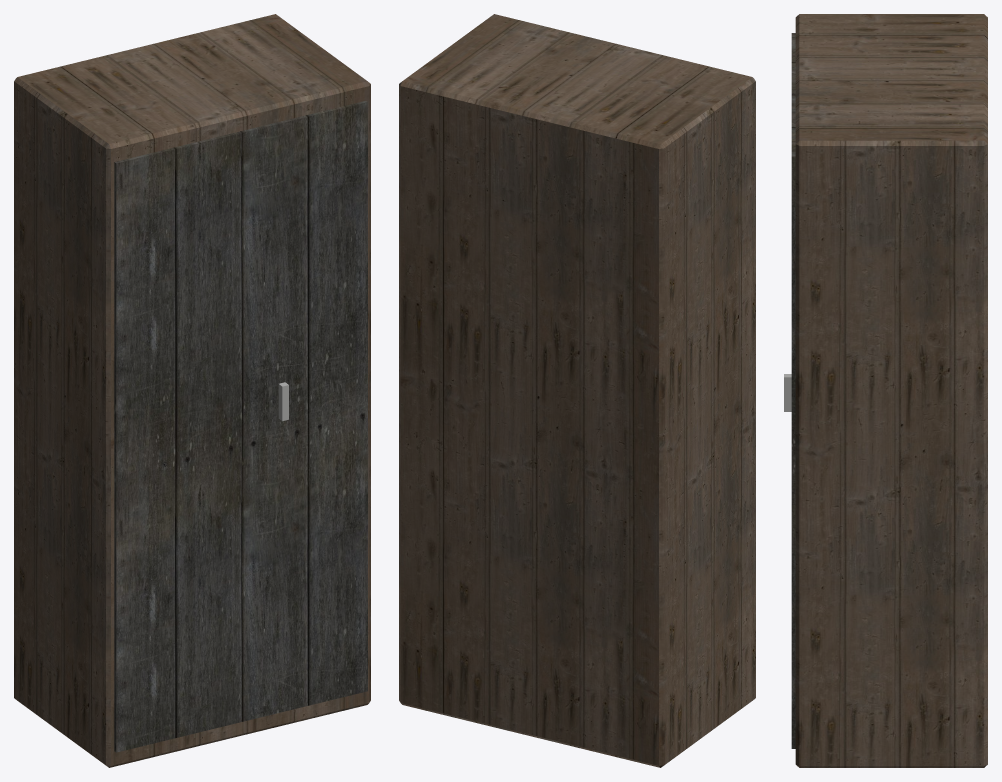
File: wardrobe.glb
3 renders of one model, left to right at view 1: azimuth 30°, elevation 25°; view 2: azimuth 150°, elevation 25°; view 3: azimuth 270°, elevation 25°, orthographic.
Parts seen in each view (by area): view 1: wardrobe; view 2: wardrobe; view 3: wardrobe.
Part boxes in pixels (box(x1,y1,x2,y2)): wardrobe: box(14, 14, 370, 767); wardrobe: box(399, 14, 755, 767); wardrobe: box(784, 14, 987, 767).
Bounding box in the file's own units: 0.8 × 1.8 × 0.53.
Materials: 3 (2 with a texture image).
